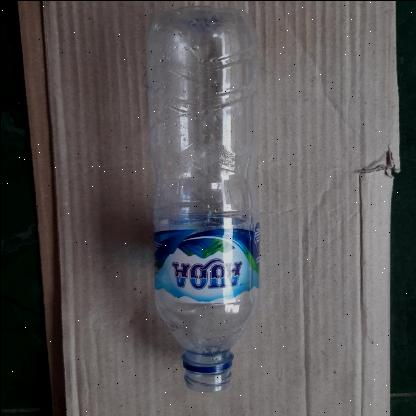Plastic Bottle: (140, 5, 294, 400)
